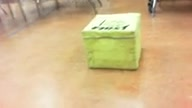cube: (82, 12, 141, 71)
